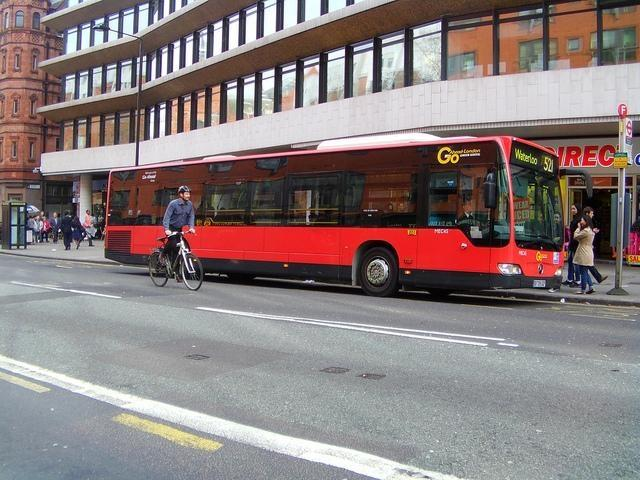bicycle: (148, 230, 204, 292)
bus: (107, 132, 592, 300)
